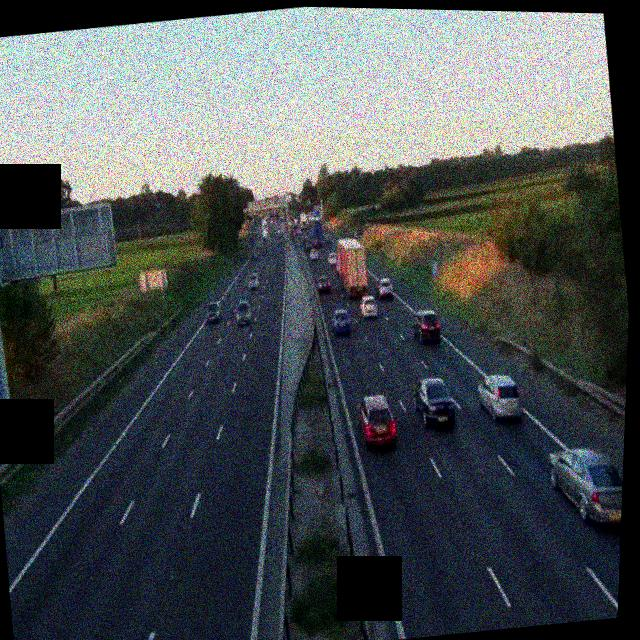car: (545, 440, 624, 532), (410, 374, 459, 431), (475, 371, 524, 423), (355, 391, 399, 448), (410, 306, 443, 346), (330, 306, 353, 337), (233, 296, 253, 327), (359, 295, 381, 320), (204, 300, 223, 323), (375, 277, 394, 299), (317, 274, 332, 294), (246, 271, 260, 288), (309, 247, 321, 261), (328, 253, 338, 268), (249, 249, 256, 261)
truck: (333, 233, 370, 296), (313, 215, 330, 246), (260, 216, 270, 238)
